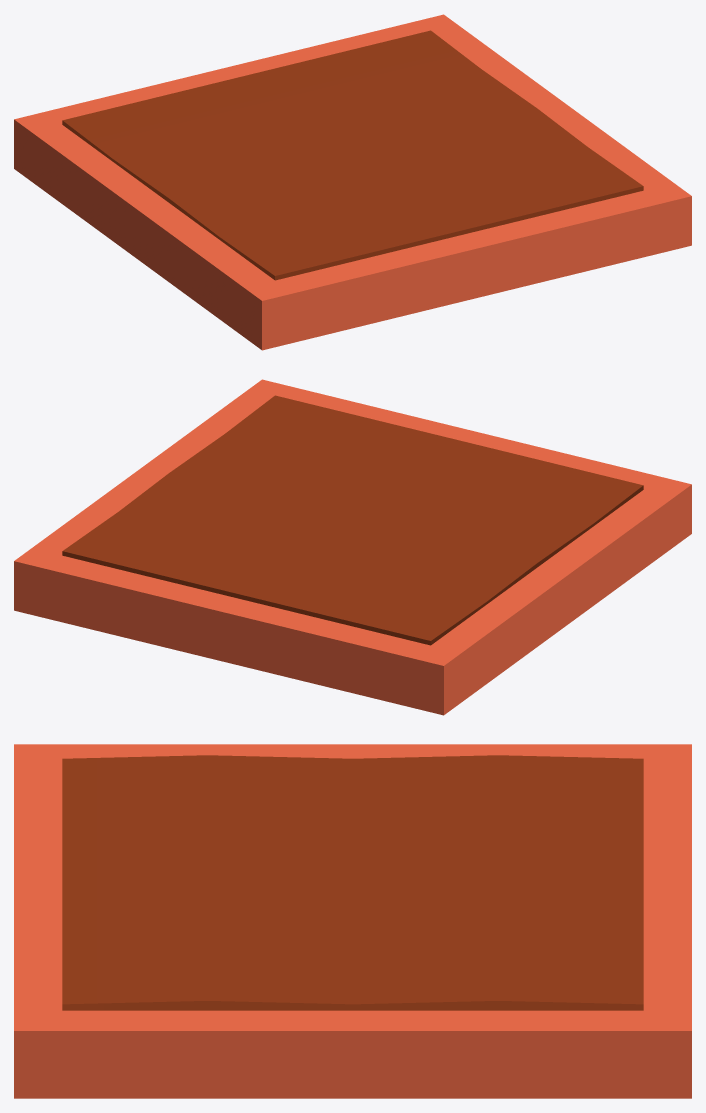
3 renders of one model, top to bottom at view 1: azimuth 30°, elevation 25°; view 2: azimuth 150°, elevation 25°; view 3: azimuth 270°, elevation 25°, orthographic. The views are drawn at different scales.
Visible parts, largest first — view 1: FRP_Env_FarmLand_02; view 2: FRP_Env_FarmLand_02; view 3: FRP_Env_FarmLand_02.
Part boxes in pixels (x1=…): FRP_Env_FarmLand_02: x1=14, y1=14, x2=691, y2=350; FRP_Env_FarmLand_02: x1=14, y1=379, x2=691, y2=715; FRP_Env_FarmLand_02: x1=14, y1=744, x2=691, y2=1098.
Bounding box in the file's own units: 500 × 61.3 × 500.
